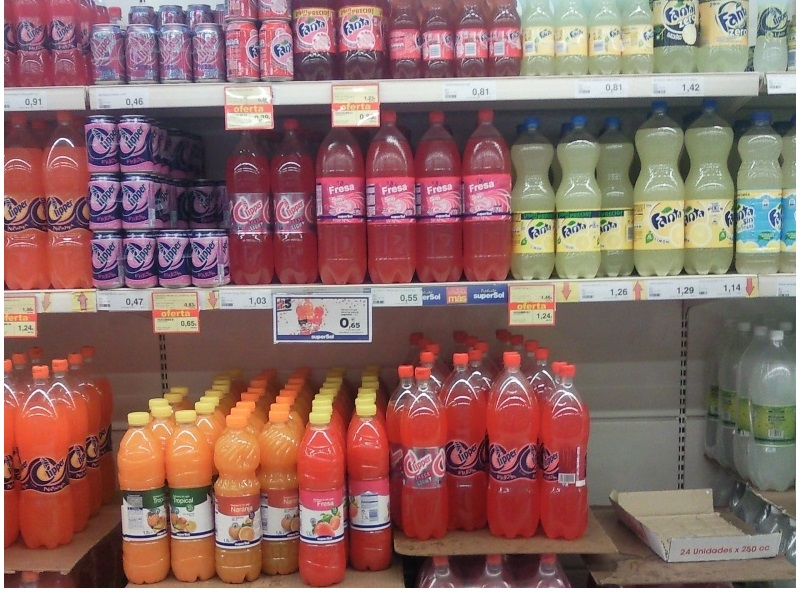lemonade: (33, 109, 102, 294), (308, 108, 378, 290), (482, 351, 546, 549), (107, 412, 180, 585), (17, 363, 80, 555), (259, 112, 325, 293), (410, 108, 474, 293), (678, 98, 743, 280), (289, 407, 354, 586), (158, 409, 223, 586), (725, 104, 789, 283), (335, 399, 398, 580), (540, 359, 600, 549), (626, 101, 687, 279), (362, 111, 423, 287), (457, 106, 517, 283), (506, 116, 567, 288), (208, 411, 268, 585), (550, 111, 607, 285), (400, 364, 454, 541)
